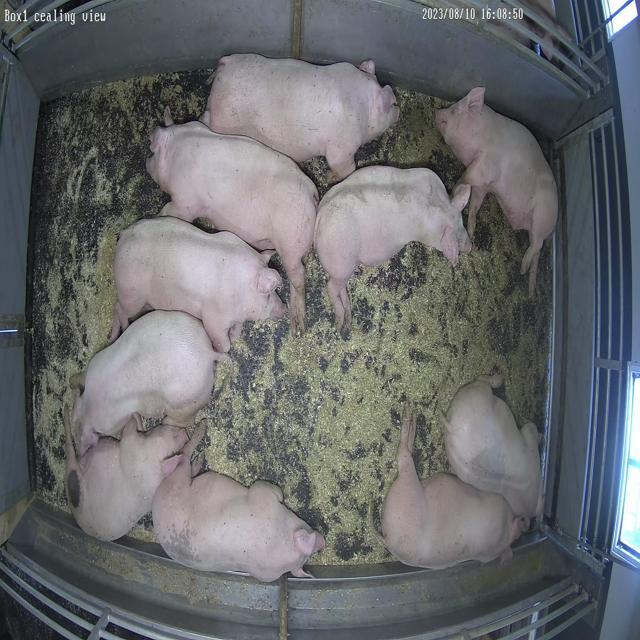Dirt: (432, 196, 553, 432), (64, 71, 212, 239), (356, 87, 465, 192)
Pig: (146, 121, 319, 334), (152, 422, 325, 583), (315, 166, 472, 334), (437, 87, 558, 296), (205, 53, 400, 180), (383, 405, 530, 570), (110, 218, 286, 352), (71, 312, 225, 456), (66, 414, 188, 542), (444, 376, 543, 520)
